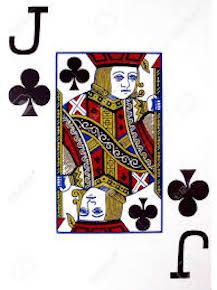JackOfClubs: (1, 2, 216, 290)
